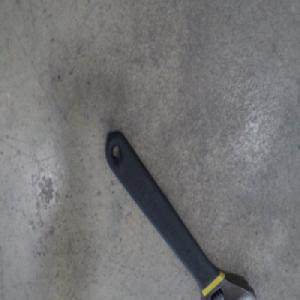AdjustableWrench: (104, 131, 258, 300)
